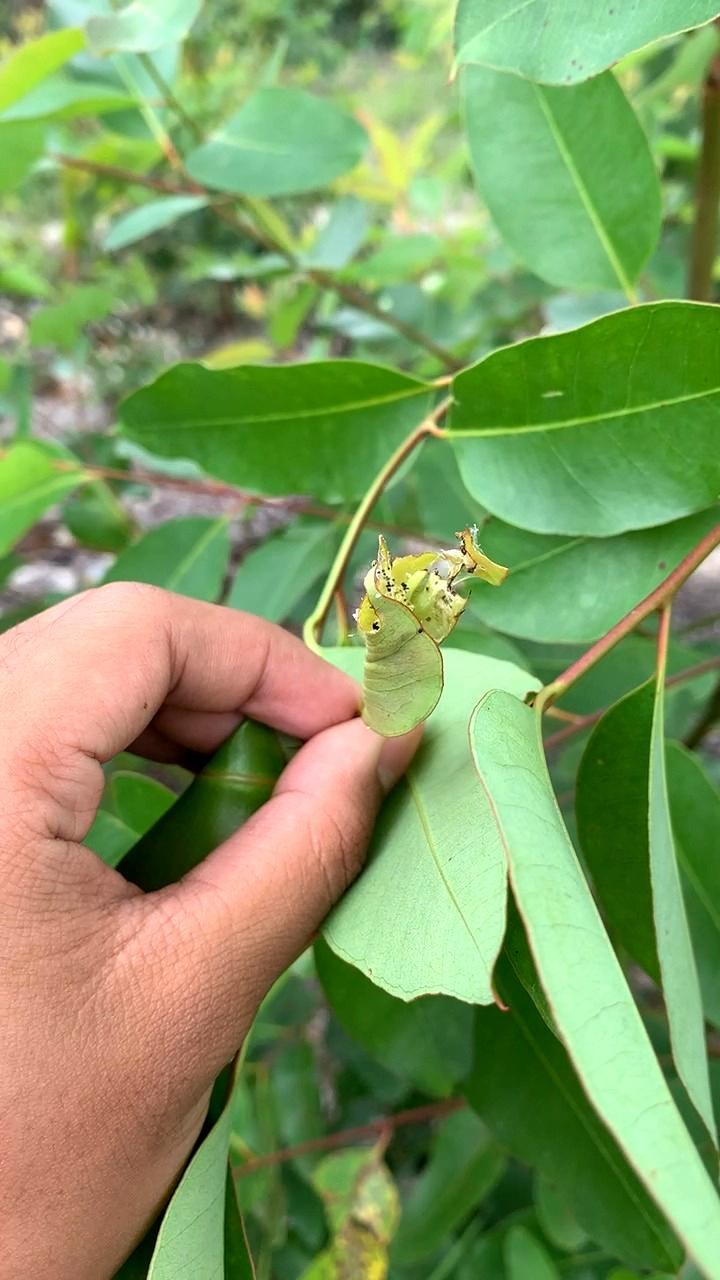Leaf Roller - Leaf: (348, 528, 503, 741)
